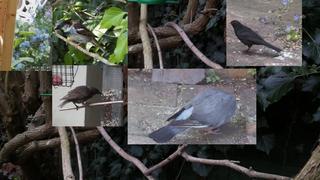blackbird: (228, 20, 282, 56)
sparrow: (54, 20, 108, 54)
starling: (58, 85, 103, 111)
wood pigeon: (148, 89, 236, 144)
